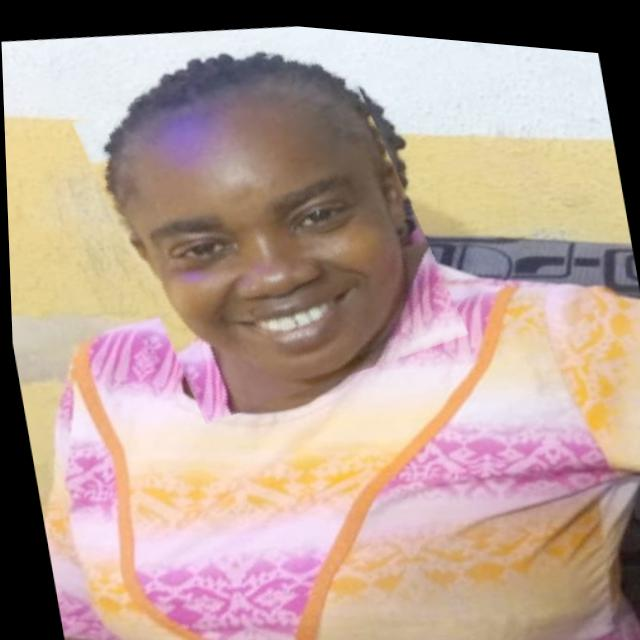happy: (78, 15, 461, 431)
